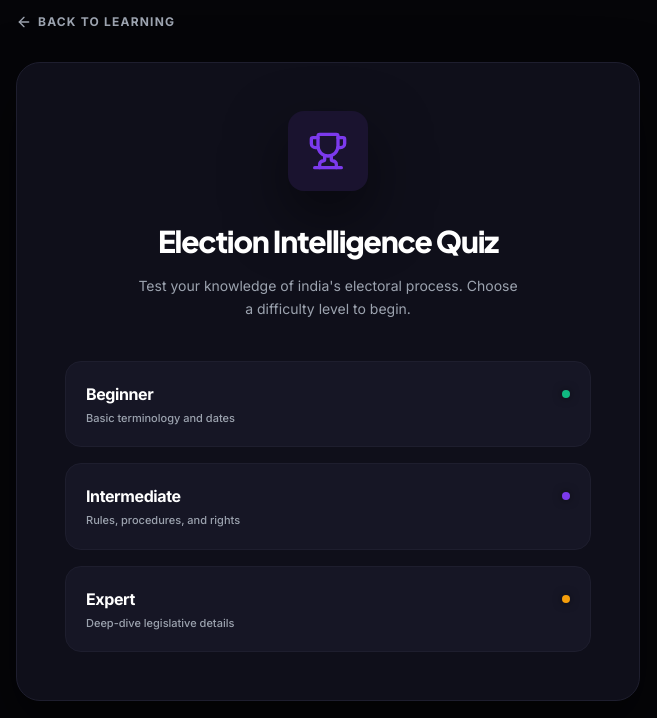
Test case: Quiz Page › handles incorrect answer selection
Click the text "Beginner".
click(120, 394)  # box [86,382,153,406]
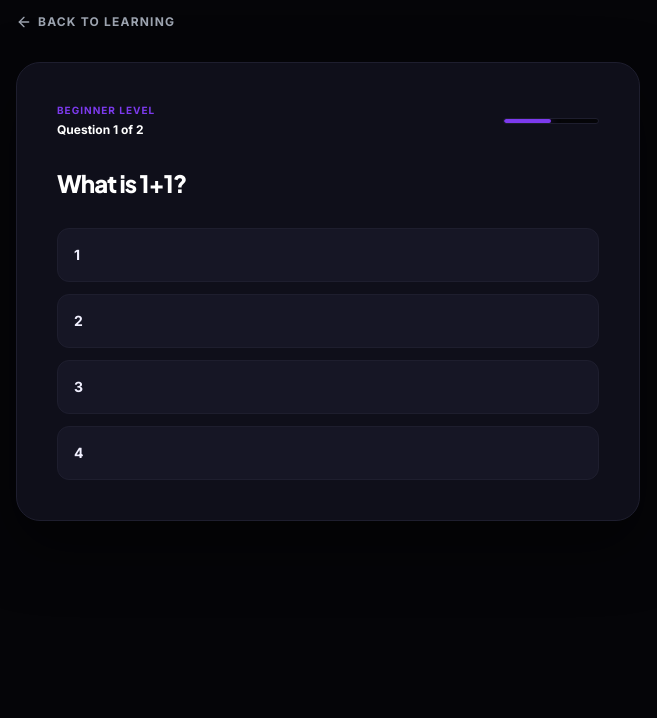
Correct answer is "2" (index 1), so "1" (index 0) is incorrect
Click the button "1".
click(77, 255)  # box [57,228,599,282]
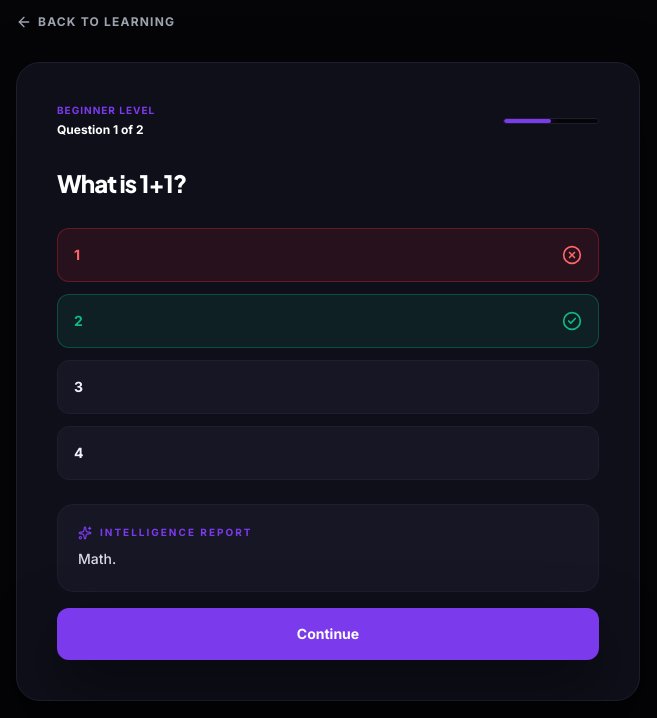
Now the heading "Intelligence Report" is shown, box [78,526,252,540]
Now the button "Continue" is shown, box [57,608,599,660]
